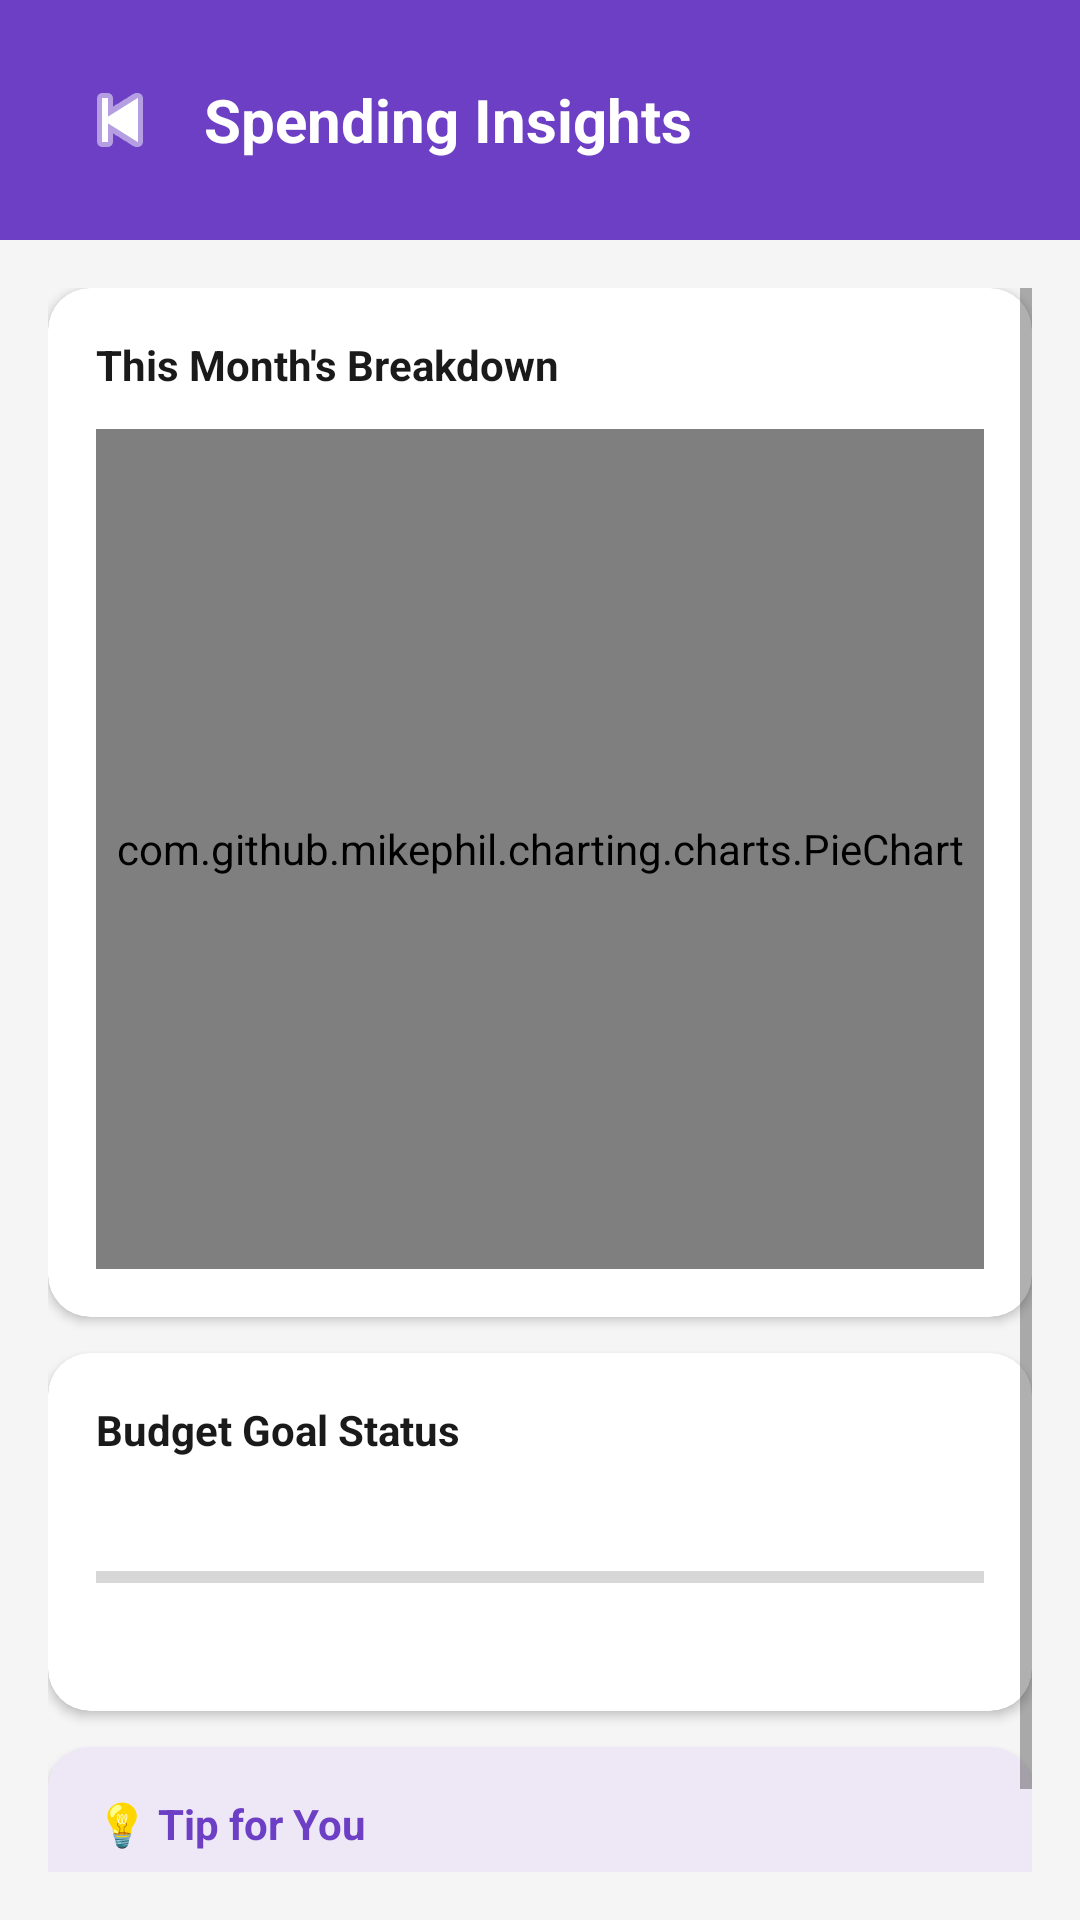

Where to tap for icons on this 1080px×1920px app screen, as [x,y]:
previous: [120,120]
